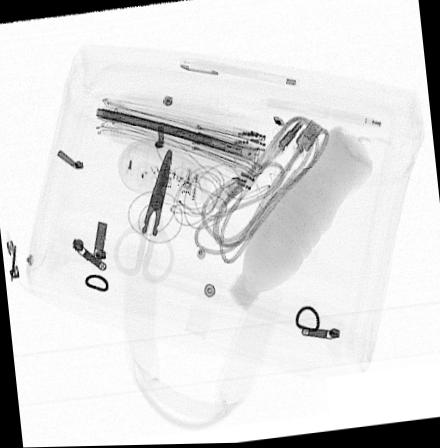Scissors: (111, 147, 175, 284)
